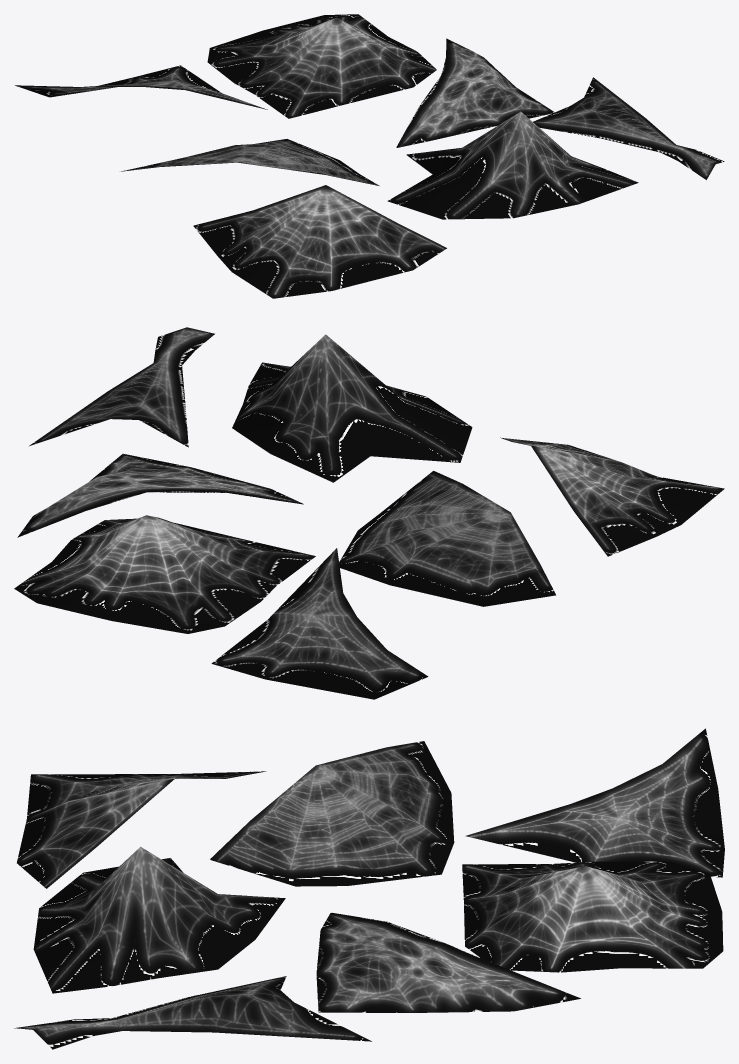
File: cobwebs.fbx
3 renders of one model, top to bottom at view 1: azimuth 30°, elevation 25°; view 2: azimuth 150°, elevation 25°; view 3: azimuth 270°, elevation 25°, orthographic. The views are drawn at different scales.
Parts seen in each view (by area): view 1: cobweb.003, cobweb.006, cobweb.001, cobweb.005, cobweb.004, cobweb.002, cobweb.007; view 2: cobweb.006, cobweb.001, cobweb.002, cobweb.007, cobweb.003, cobweb.004, cobweb.005; view 3: cobweb.006, cobweb.002, cobweb.001, cobweb.007, cobweb.005, cobweb.003, cobweb.004.
Boxes of the visible parts, x1,y1,x2,y2 form: cobweb.003: [193, 185, 446, 298]; cobweb.006: [207, 14, 436, 118]; cobweb.001: [387, 111, 638, 219]; cobweb.005: [396, 38, 554, 147]; cobweb.004: [533, 77, 724, 179]; cobweb.002: [121, 139, 379, 185]; cobweb.007: [15, 65, 267, 109]; cobweb.006: [14, 515, 315, 633]; cobweb.001: [232, 334, 472, 482]; cobweb.002: [339, 470, 555, 606]; cobweb.007: [211, 548, 428, 699]; cobweb.003: [500, 437, 724, 556]; cobweb.004: [29, 327, 214, 447]; cobweb.005: [17, 453, 304, 537]; cobweb.006: [462, 861, 723, 972]; cobweb.002: [210, 741, 454, 886]; cobweb.001: [33, 846, 285, 993]; cobweb.007: [465, 728, 724, 877]; cobweb.005: [316, 912, 580, 1012]; cobweb.003: [17, 771, 266, 888]; cobweb.004: [14, 976, 371, 1049].
Bounding box in the file's own units: 404 × 76.05 × 397.
